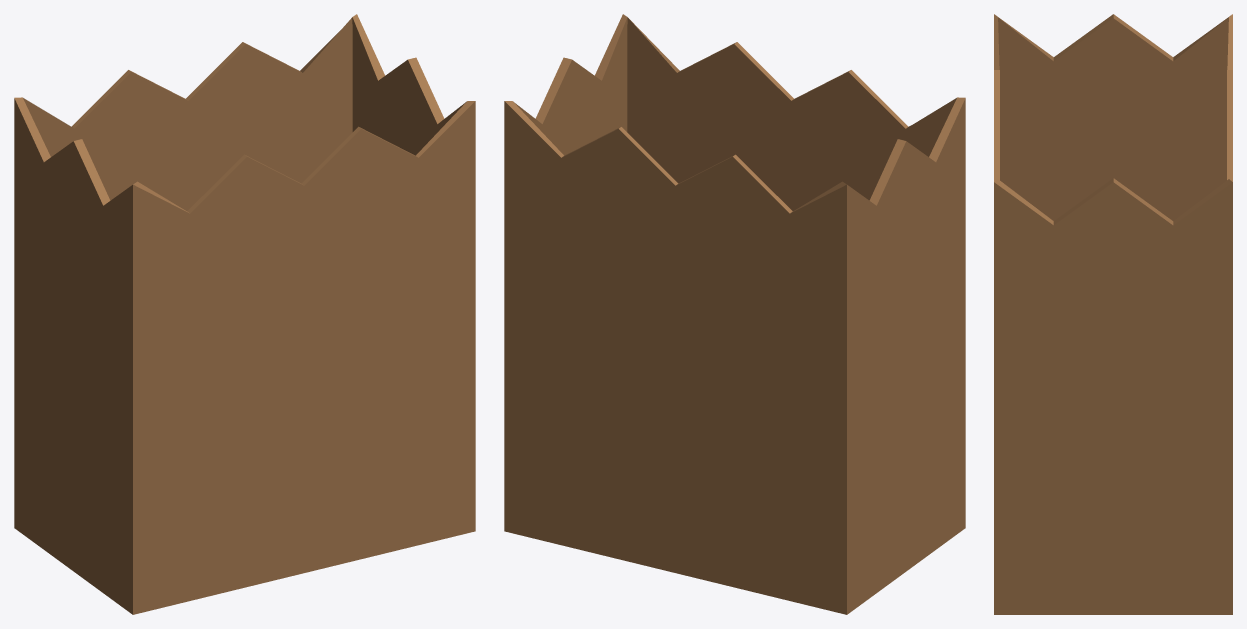
The model's file is paper bag.fbx.
The picture shows the model from 3 angles, left to right: view 1: azimuth 30°, elevation 25°; view 2: azimuth 150°, elevation 25°; view 3: azimuth 270°, elevation 25°; orthographic projection.
Visible parts, largest first — view 1: paper_bag; view 2: paper_bag; view 3: paper_bag.
Boxes of the visible parts, bbox=[...] form: paper_bag: bbox=[14, 14, 475, 614]; paper_bag: bbox=[504, 14, 965, 614]; paper_bag: bbox=[994, 14, 1232, 614].
Bounding box in the file's own units: 25 × 30 × 15.
